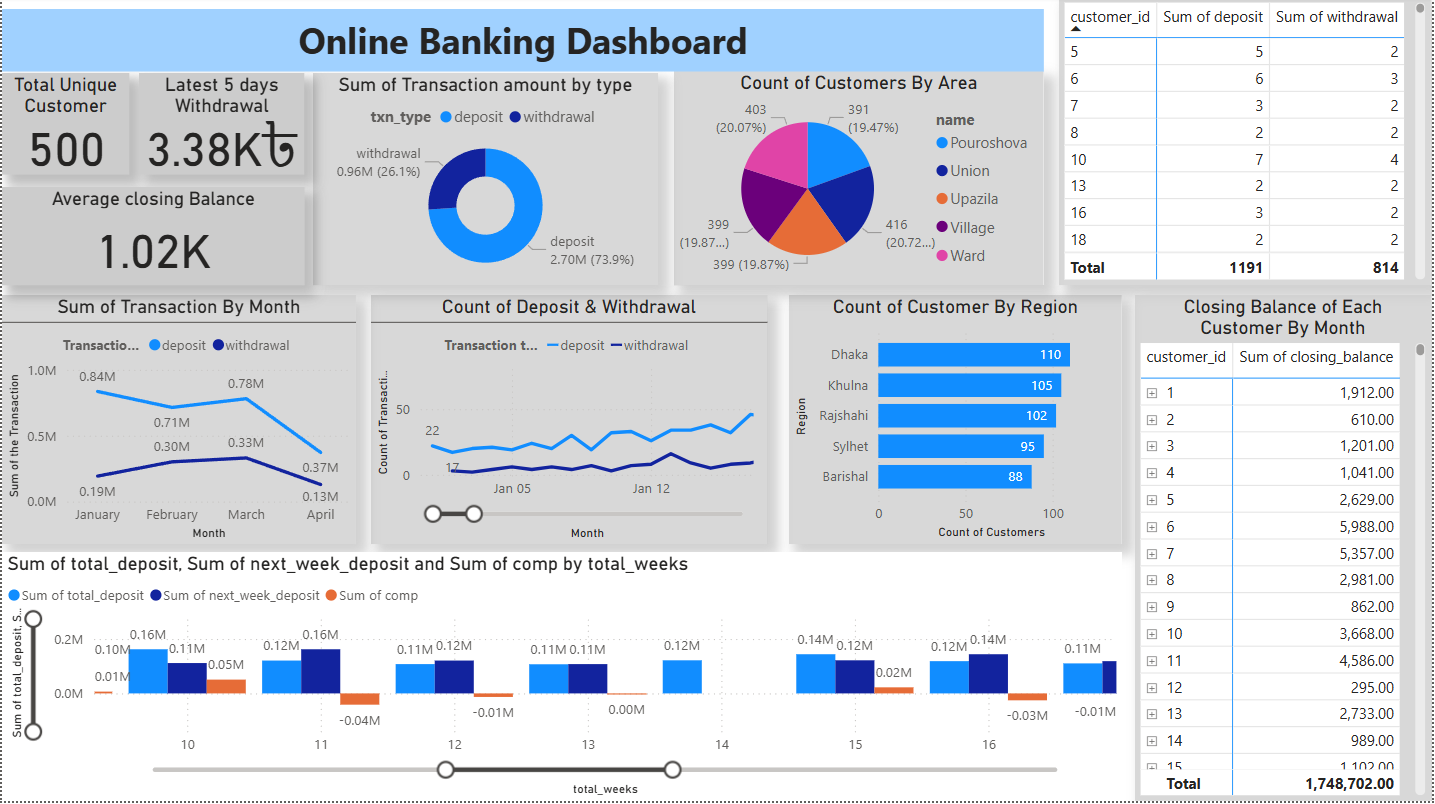

This screenshot's page, from the dashboard's own definition file:
{"tool":"powerbi","page":{"name":"Page 1","canvas":[1280,720],"ordinal":0},"visuals":[{"type":"barChart","title":"Count of Customer By  Region","fields":{"Y":["Count(wh_online_banking customer_joining_info.customer_id)"],"Category":["wh_online_banking region.region_name"]},"box":[704.8,266.9,298.2,223],"z":0},{"type":"pieChart","title":"Count of Customers By Area","fields":{"Y":["Count(wh_online_banking customer_joining_info.customer_id)"],"Series":["wh_online_banking area.name"]},"box":[601.8,66.3,331.3,191.6],"z":1000},{"type":"lineChart","title":"Count of Deposit & Withdrawal","fields":{"Category":["wh_online_banking customer_transactions.txn_date"],"Y":["Count(wh_online_banking customer_transactions.customer_id)"],"Series":["wh_online_banking customer_transactions.txn_type"]},"box":[330.4,266.9,354.6,223],"z":2000},{"type":"donutChart","title":"Sum of Transaction amount by type","fields":{"Category":["wh_online_banking customer_transactions.txn_type"],"Y":["Sum(wh_online_banking customer_transactions.txn_amount)"]},"box":[278.5,68.1,309,189.9],"z":3000},{"type":"card","title":"Total Unique Customer","fields":{"Values":["Count(wh_online_banking customer_transactions.customer_id)"]},"box":[0,68.2,114,90.7],"z":4000},{"type":"lineChart","title":"Sum of Transaction By  Month","fields":{"Series":["wh_online_banking customer_transactions.txn_type"],"Y":["Sum(wh_online_banking customer_transactions.txn_amount)"],"Category":["wh_online_banking customer_transactions.txn_date.Variation.Date Hierarchy.Month"]},"box":[0,266.9,317,223],"z":5000},{"type":"card","title":"Latest 5 days Withdrawal","fields":{"Values":["Sum(Query1.latest_5_days_total_withdraw)"]},"box":[123,68.2,148.1,90.7],"z":6000},{"type":"pivotTable","fields":{"Rows":["Query1.customer_id"],"Values":["Sum(Query1.deposit)","Sum(Query1.withdrawal)"]},"box":[946.6,0,333.1,257.9],"z":7000},{"type":"pivotTable","title":"Closing Balance of Each Customer By Month","fields":{"Rows":["Monthly closing balance.customer_id","Monthly closing balance.tx_month"],"Values":["Sum(Monthly closing balance.closing_balance)"]},"box":[1014.6,266.9,265.1,453.1],"z":8000},{"type":"clusteredColumnChart","fields":{"Category":["Query3.total_weeks"],"Y":["Sum(Query3.total_deposit)","Sum(Query3.next_week_deposit)","Sum(Query3.comp)"]},"box":[0,497,1003,223],"z":9000},{"type":"textbox","box":[0,10.7,933.1,55.5],"z":10000},{"type":"card","title":"Average closing Balance","fields":{"Values":["Avg(Monthly closing balance.closing_balance)"]},"box":[0,170.5,271.1,88],"z":10001}]}

Visuals, with their boxes in screenshot pixels (x1, y1, x2, y2), scaled from the page's 1280x720 canvas onto the 1435x804 screenshot:
"Count of Customer By  Region" barChart: (790,298,1124,547)
"Count of Customers By Area" pieChart: (675,74,1046,288)
"Count of Deposit & Withdrawal" lineChart: (370,298,768,547)
"Sum of Transaction amount by type" donutChart: (312,76,659,288)
"Total Unique Customer" card: (0,76,128,177)
"Sum of Transaction By  Month" lineChart: (0,298,355,547)
"Latest 5 days Withdrawal" card: (138,76,304,177)
pivotTable - Query1.customer_id x Sum(Query1.deposit): (1061,0,1434,288)
"Closing Balance of Each Customer By Month" pivotTable: (1137,298,1434,803)
clusteredColumnChart - Query3.total_weeks x Sum(Query3.total_deposit): (0,555,1124,803)
textbox: (0,12,1046,74)
"Average closing Balance" card: (0,190,304,289)
